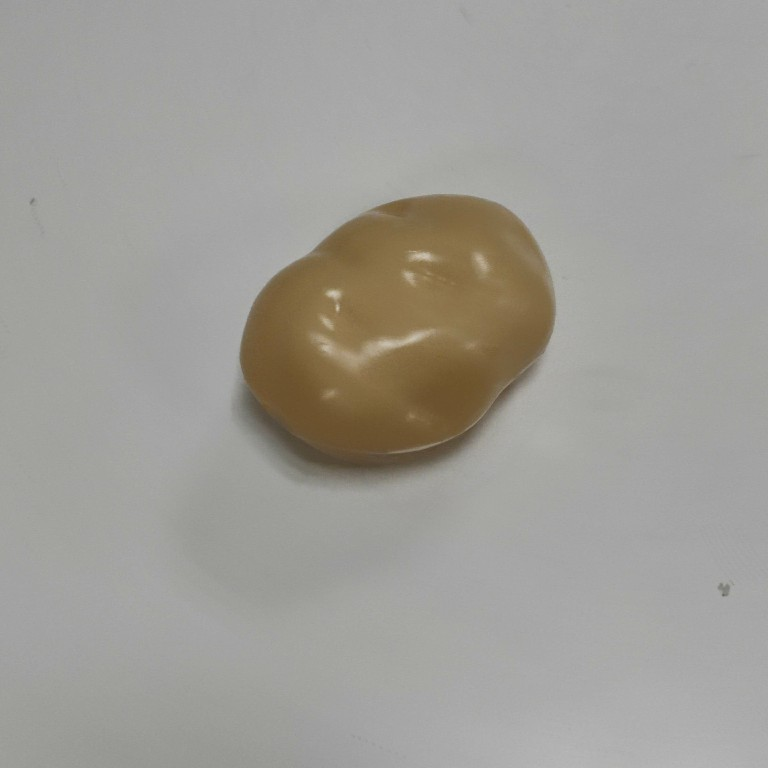fruit_potato: (235, 191, 559, 461)
